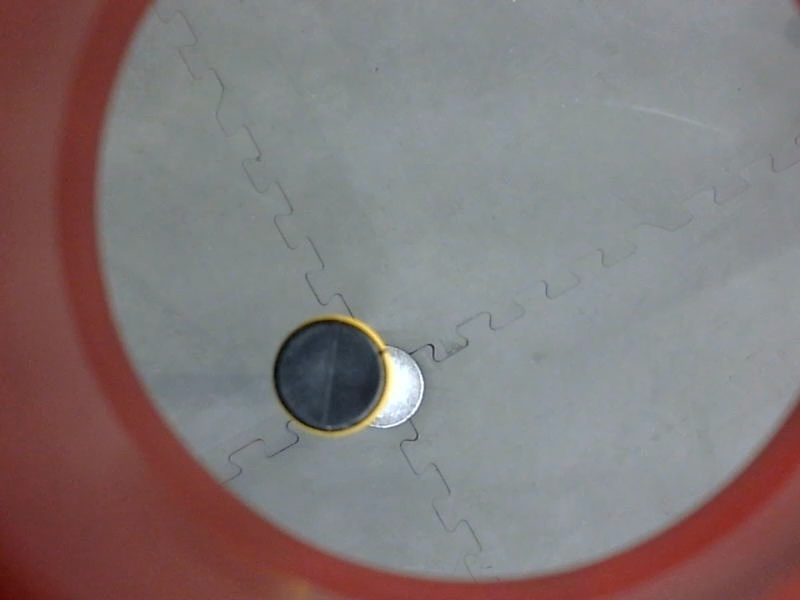tip: (268, 308, 398, 446)
